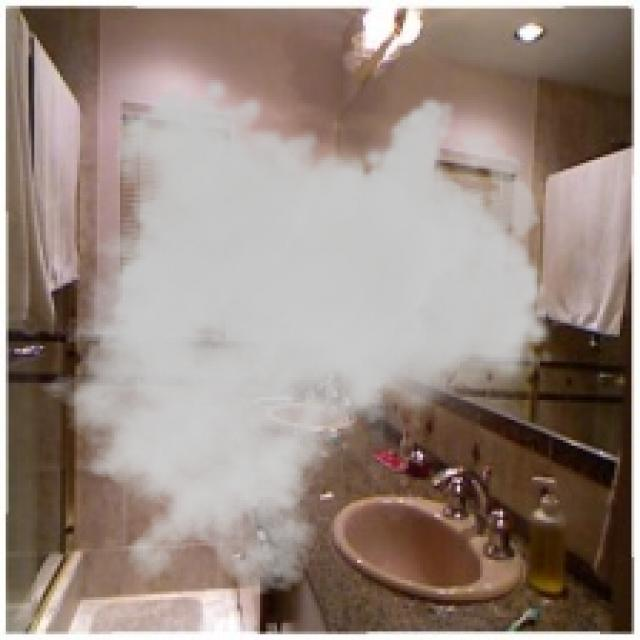smoke: (23, 74, 554, 597)
